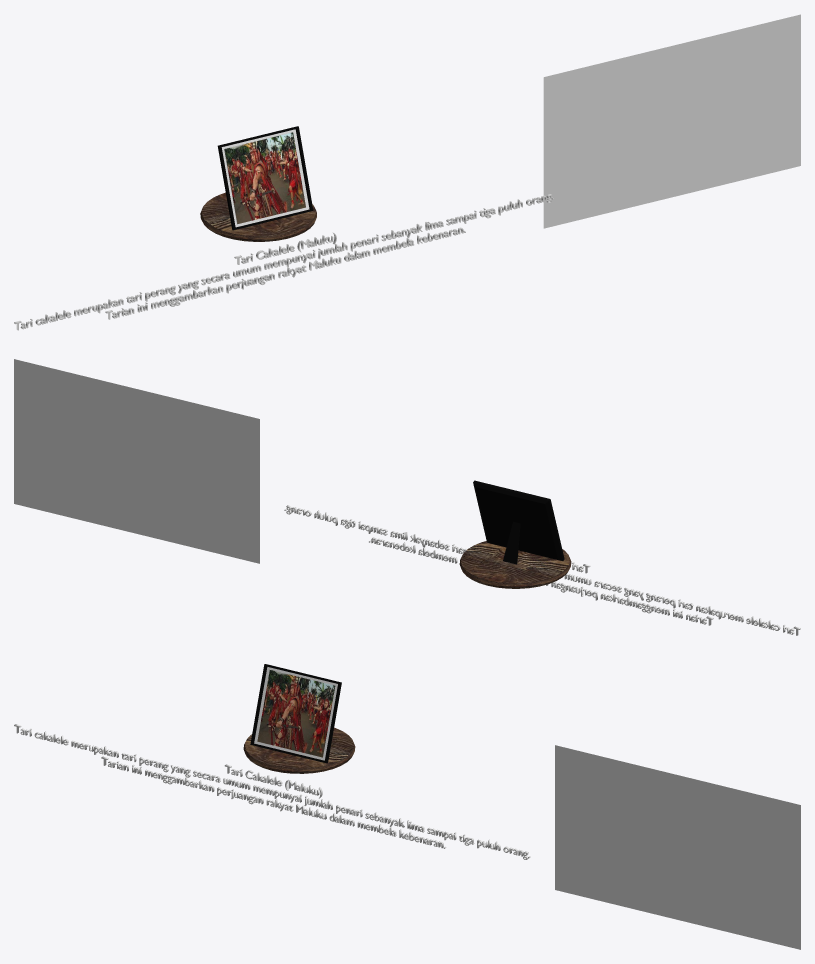
The model's file is 31. Tari Makalele (Maluku).fbx.
3 renders of one model, top to bottom at view 1: azimuth 30°, elevation 25°; view 2: azimuth 150°, elevation 25°; view 3: azimuth 330°, elevation 25°, orthographic. The views are drawn at different scales.
Parts seen in each view (by area): view 1: Plane, Cube.010, Text; view 2: Plane, Cube.010, Text; view 3: Plane, Cube.010, Text.
Part boxes in pixels (x1,y1,x2,y2): Plane: (543, 14, 800, 228); Cube.010: (200, 126, 316, 241); Text: (14, 194, 554, 330); Plane: (14, 359, 259, 563); Cube.010: (459, 480, 571, 588); Text: (284, 505, 800, 635); Plane: (555, 745, 800, 949); Cube.010: (243, 664, 355, 773); Text: (14, 724, 530, 859).
Bounding box in the file's own units: 9999 × 1806 × 1260.
Materials: 6 (3 with a texture image).
